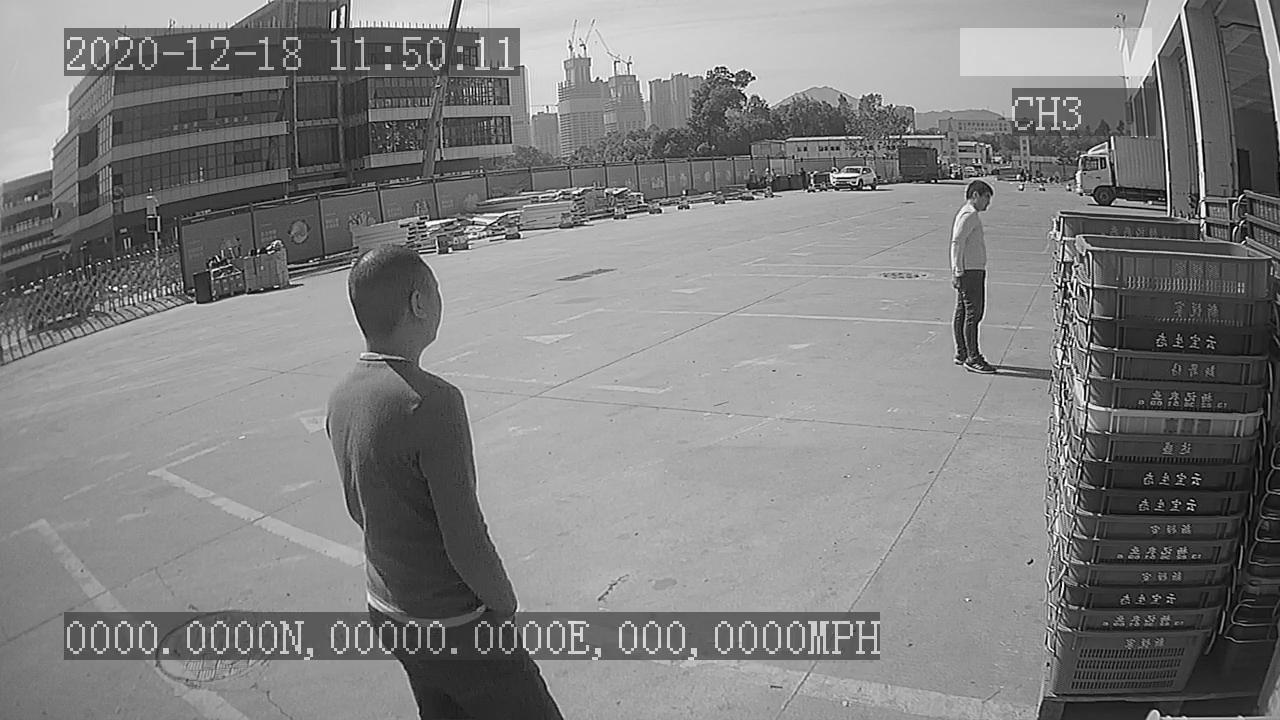person: (945, 177, 1008, 379)
